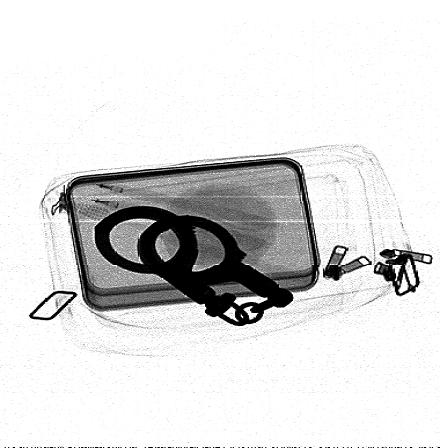HandCuffs: (94, 205, 295, 326)
